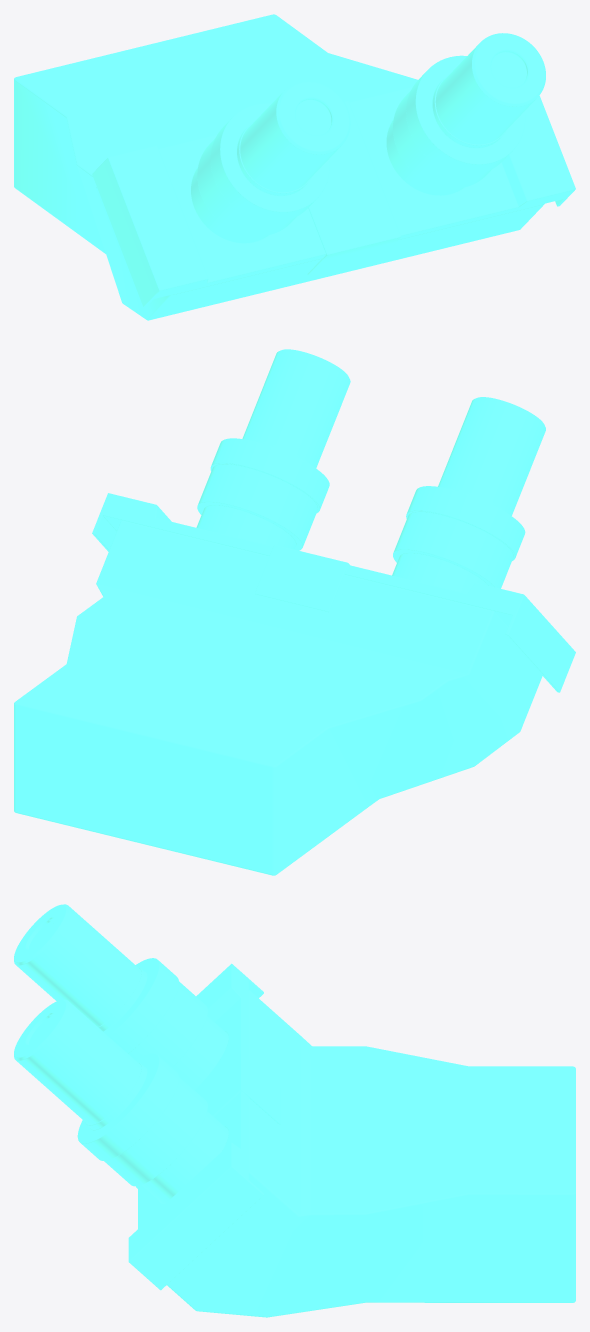
File: heye.gltf
3 views of the same model, one above another, from view 1: azimuth 30°, elevation 25°; view 2: azimuth 150°, elevation 25°; view 3: azimuth 270°, elevation 25° (orthographic).
Visible parts, largest first — view 1: head, head.001, objective-lower, objective; view 2: head, objective-lower, objective, head.001; view 3: head, objective-lower, objective, head.001.
Part boxes in pixels (left/top/right/bottom): head: left=14, top=14, right=544, bottom=320; head.001: left=92, top=87, right=575, bottom=307; objective-lower: left=191, top=55, right=525, bottom=243; objective: left=240, top=33, right=545, bottom=192; head: left=14, top=520, right=542, bottom=875; objective-lower: left=196, top=438, right=525, bottom=593; objective: left=242, top=349, right=545, bottom=515; head.001: left=92, top=493, right=575, bottom=692; head: left=167, top=990, right=575, bottom=1317; objective-lower: left=77, top=958, right=228, bottom=1203; objective: left=14, top=904, right=141, bottom=1124; head.001: left=128, top=963, right=280, bottom=1290.
Size of the model in its own units: 0.135 by 0.0912 by 0.1578.
